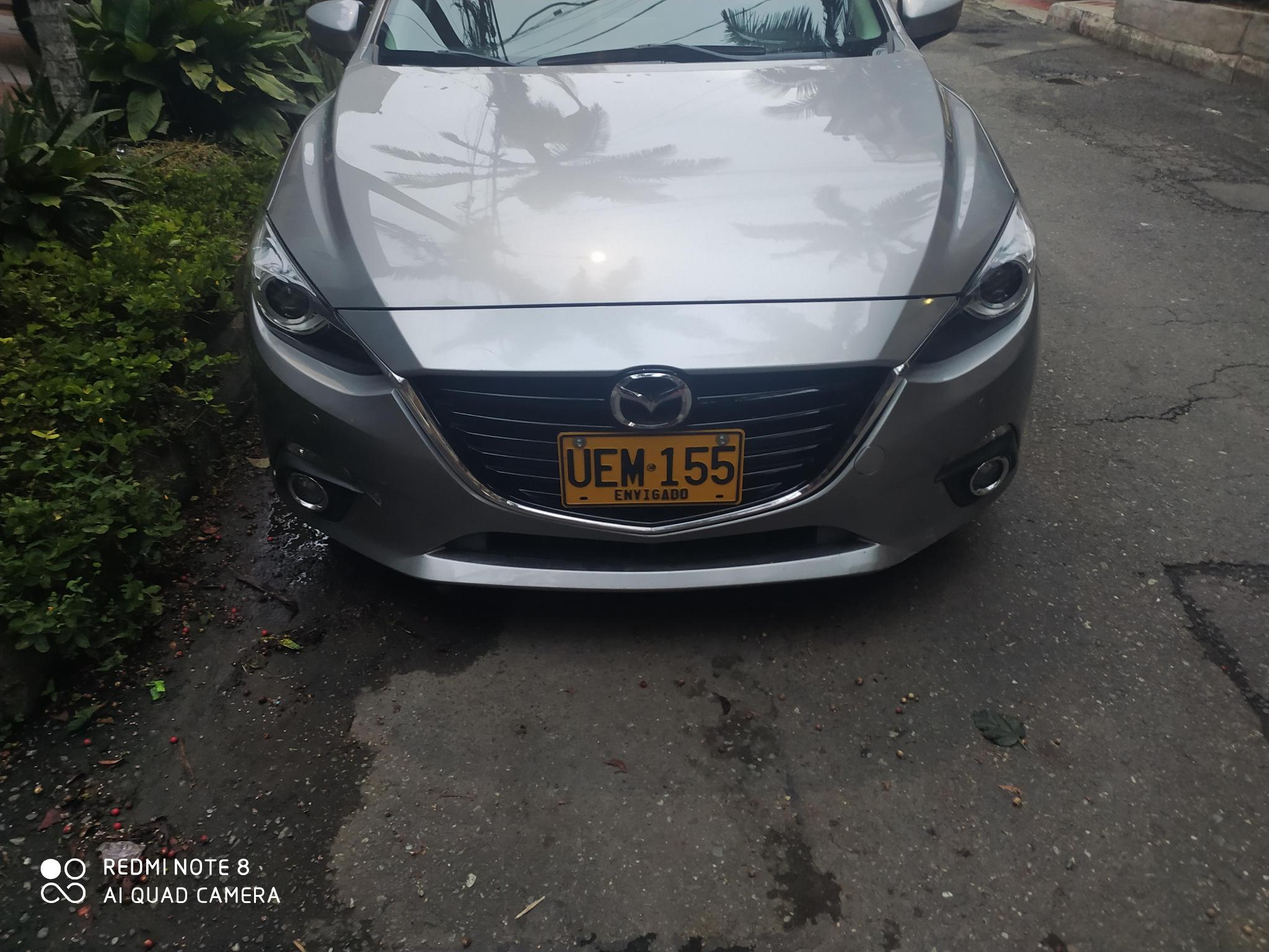placa: (549, 427, 753, 513)
